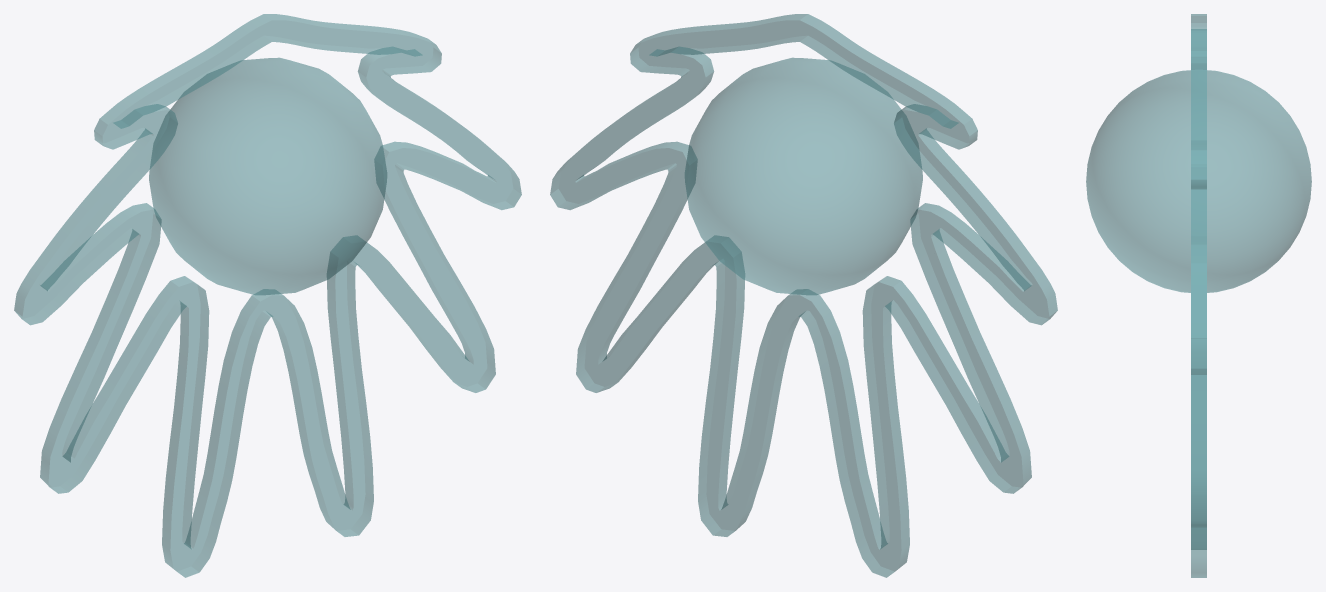
Rendered from powerup_boost.fbx.
3 views of the same model, side by side, from view 1: azimuth 30°, elevation 25°; view 2: azimuth 150°, elevation 25°; view 3: azimuth 270°, elevation 25° (orthographic). The views are drawn at different scales.
Visible parts, largest first — view 1: polySurface2; view 2: polySurface2; view 3: polySurface2.
Boxes of the visible parts, left/top/right/bottom form: polySurface2: left=14, top=14, right=521, bottom=577; polySurface2: left=550, top=14, right=1057, bottom=577; polySurface2: left=1086, top=14, right=1311, bottom=577.
Bounding box in the file's own units: 9.21 × 9.45 × 3.81.
